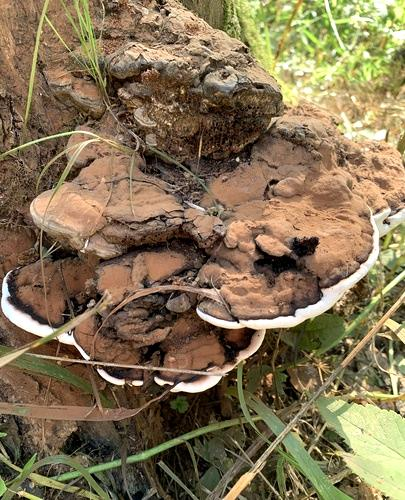Ganoderma - Fruit Body: (0, 253, 278, 415)
